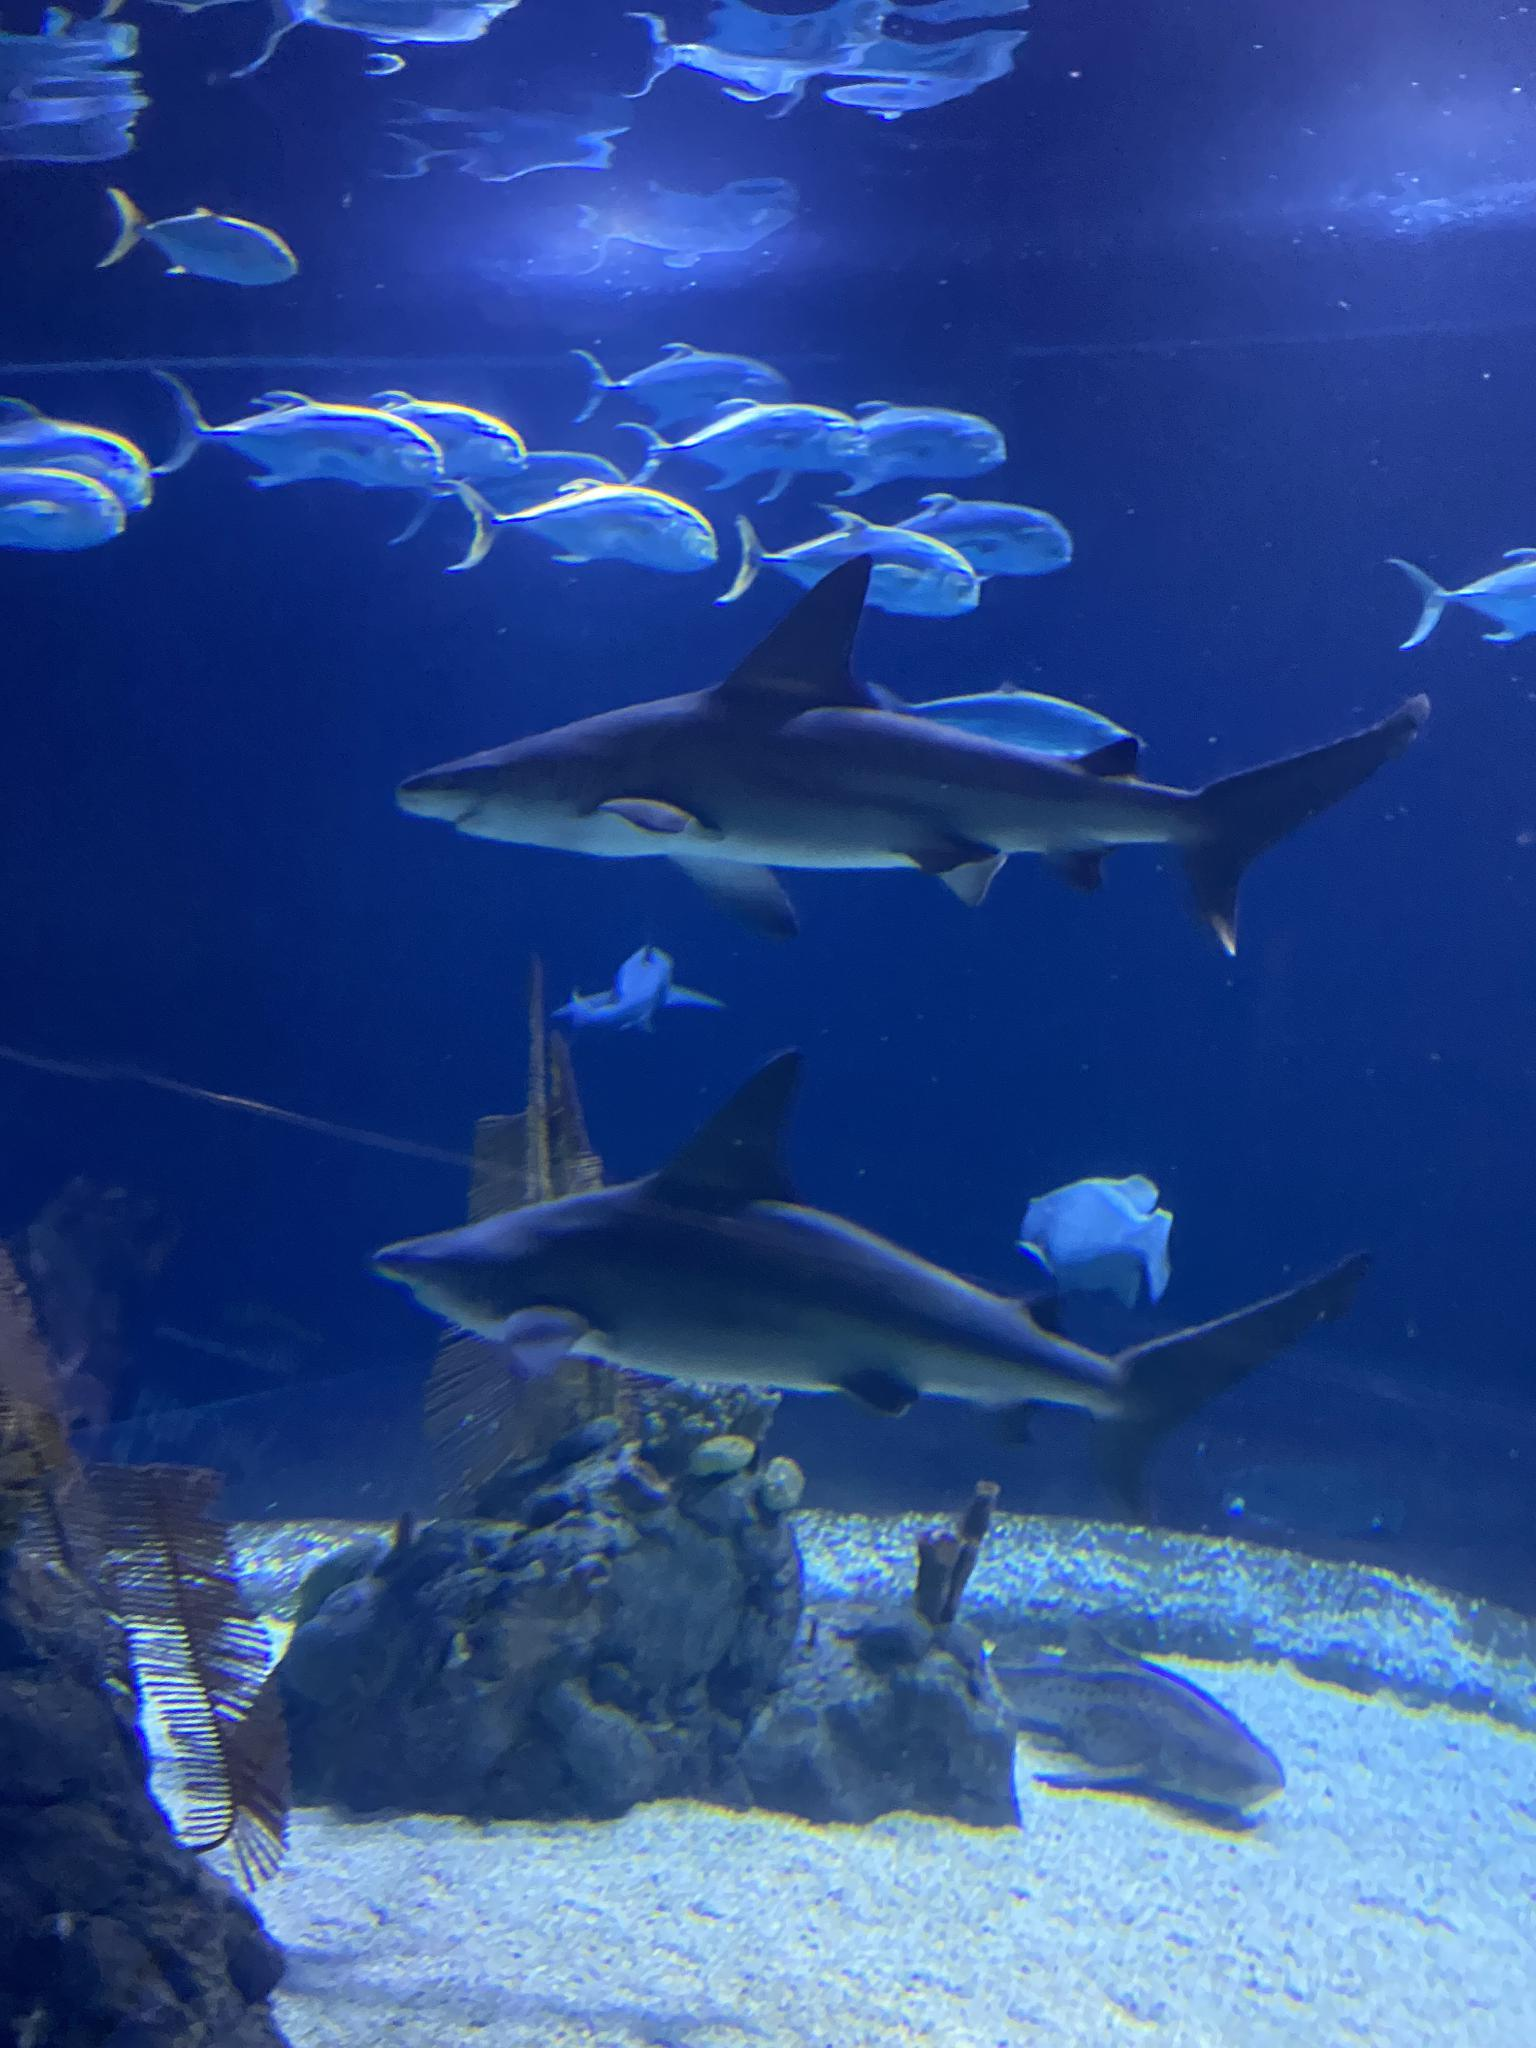fish: (981, 1619, 1288, 1822), (148, 366, 440, 492), (715, 506, 979, 622), (436, 476, 718, 574), (495, 613, 681, 756), (618, 398, 860, 503), (1012, 1172, 1173, 1314), (565, 347, 792, 429), (912, 677, 1147, 756), (0, 398, 152, 514), (833, 398, 1004, 498), (368, 387, 526, 493), (98, 205, 297, 285), (891, 495, 1071, 582), (1388, 547, 1534, 651), (0, 464, 124, 550)
shark: (371, 1043, 1373, 1526), (390, 548, 1428, 964), (555, 921, 728, 1043)
